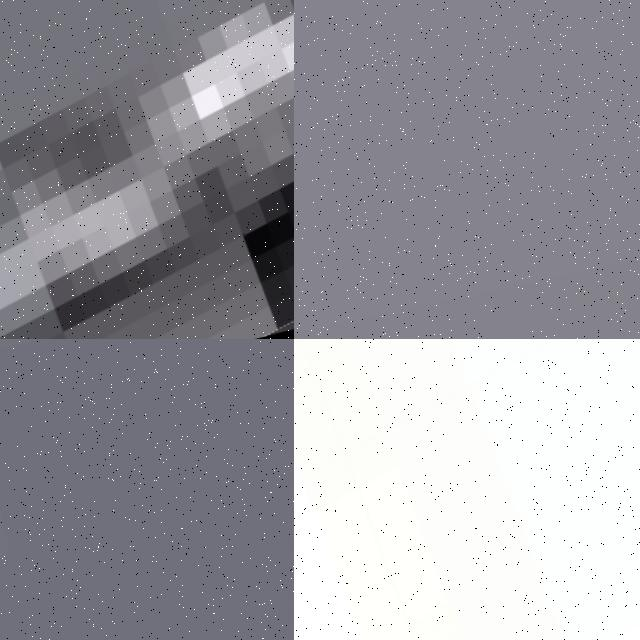0: (0, 0, 294, 339)
drone: (294, 339, 640, 640)
